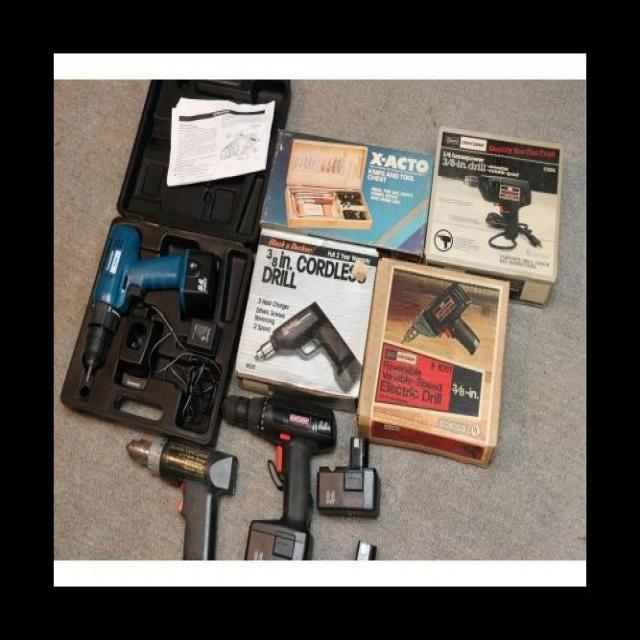drill: (84, 223, 220, 384), (223, 391, 336, 561), (124, 436, 237, 560), (255, 302, 362, 393), (400, 282, 480, 357), (464, 174, 532, 242)
